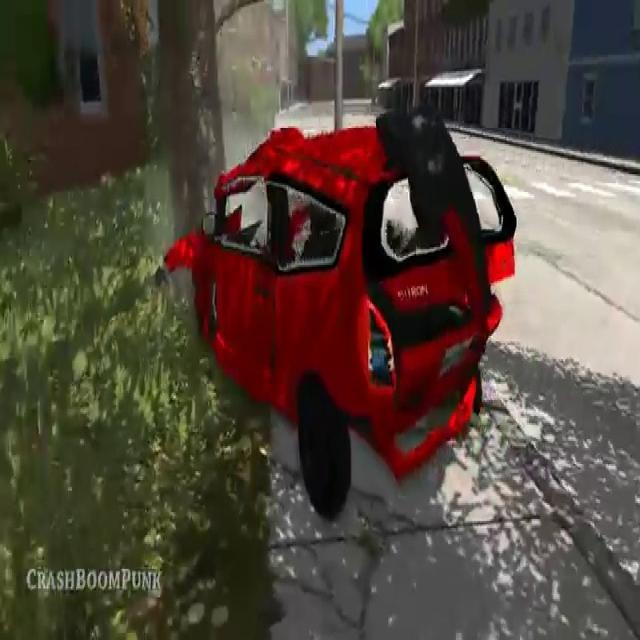severe: (161, 96, 522, 530)
